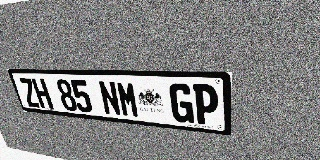5: (70, 80, 94, 113)
8: (55, 79, 78, 112)
G: (169, 83, 194, 124)
H: (31, 78, 54, 109)
M: (116, 81, 140, 118)
N: (97, 81, 122, 116)
P: (193, 84, 218, 126)
Z: (18, 78, 41, 108)
